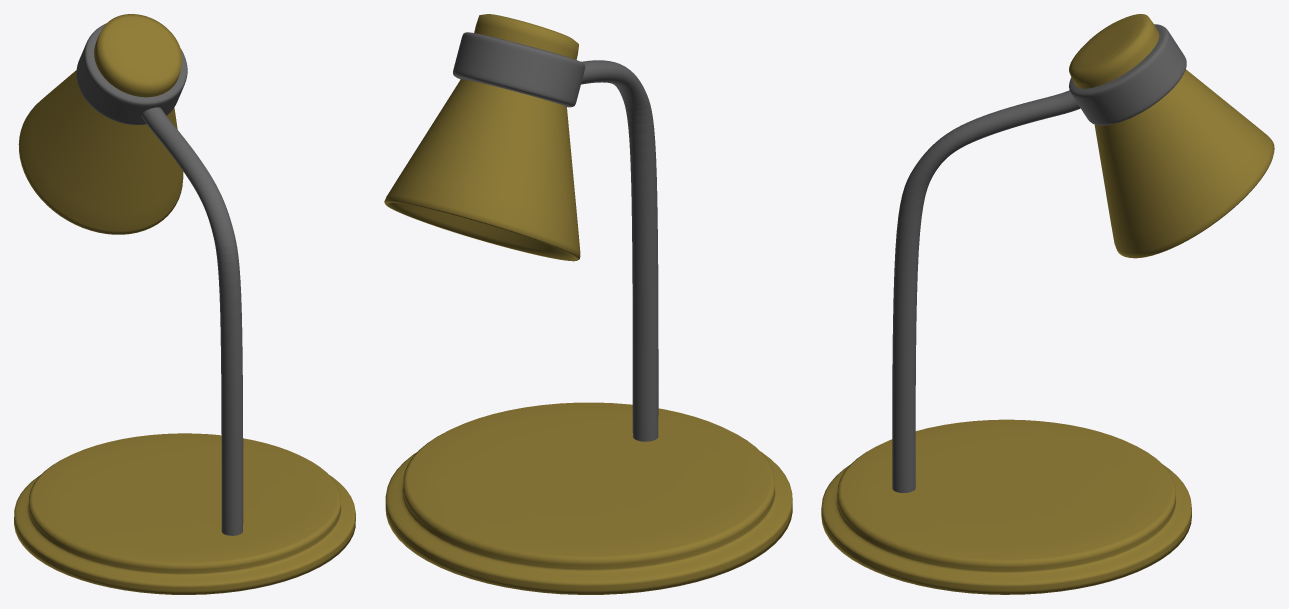
The model's file is lamp.fbx.
3 renders of one model, left to right at view 1: azimuth 30°, elevation 25°; view 2: azimuth 150°, elevation 25°; view 3: azimuth 270°, elevation 25°, orthographic. The views are drawn at different scales.
Parts seen in each view (by area): view 1: podstawka_blend, Cylinder.002, Cylinder, Cylinder.001; view 2: podstawka_blend, Cylinder.002, Cylinder, Cylinder.001; view 3: podstawka_blend, Cylinder.002, Cylinder, Cylinder.001.
Part boxes in pixels (bbox=[...]): podstawka_blend: bbox=[14, 433, 355, 594]; Cylinder.002: bbox=[18, 14, 183, 234]; Cylinder: bbox=[141, 107, 243, 535]; Cylinder.001: bbox=[76, 23, 187, 124]; podstawka_blend: bbox=[385, 402, 792, 594]; Cylinder.002: bbox=[384, 14, 580, 261]; Cylinder: bbox=[581, 60, 658, 441]; Cylinder.001: bbox=[453, 32, 585, 107]; podstawka_blend: bbox=[821, 419, 1191, 594]; Cylinder.002: bbox=[1069, 14, 1274, 258]; Cylinder: bbox=[892, 90, 1080, 492]; Cylinder.001: bbox=[1069, 24, 1186, 125].
Bounding box in the file's own units: 195 × 290 × 238.
